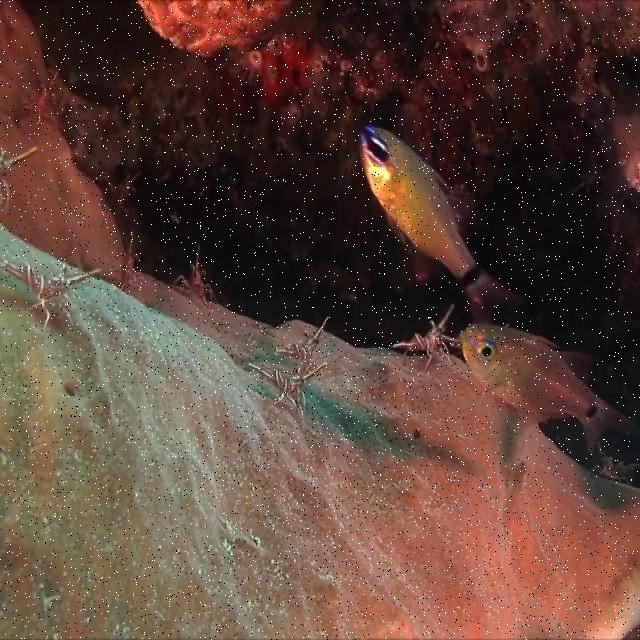fish: (358, 124, 530, 323), (459, 321, 633, 454)
reefs: (231, 311, 330, 420), (0, 255, 106, 336), (389, 303, 459, 369), (172, 241, 231, 311), (271, 316, 328, 365), (20, 67, 60, 131), (114, 225, 145, 296)
